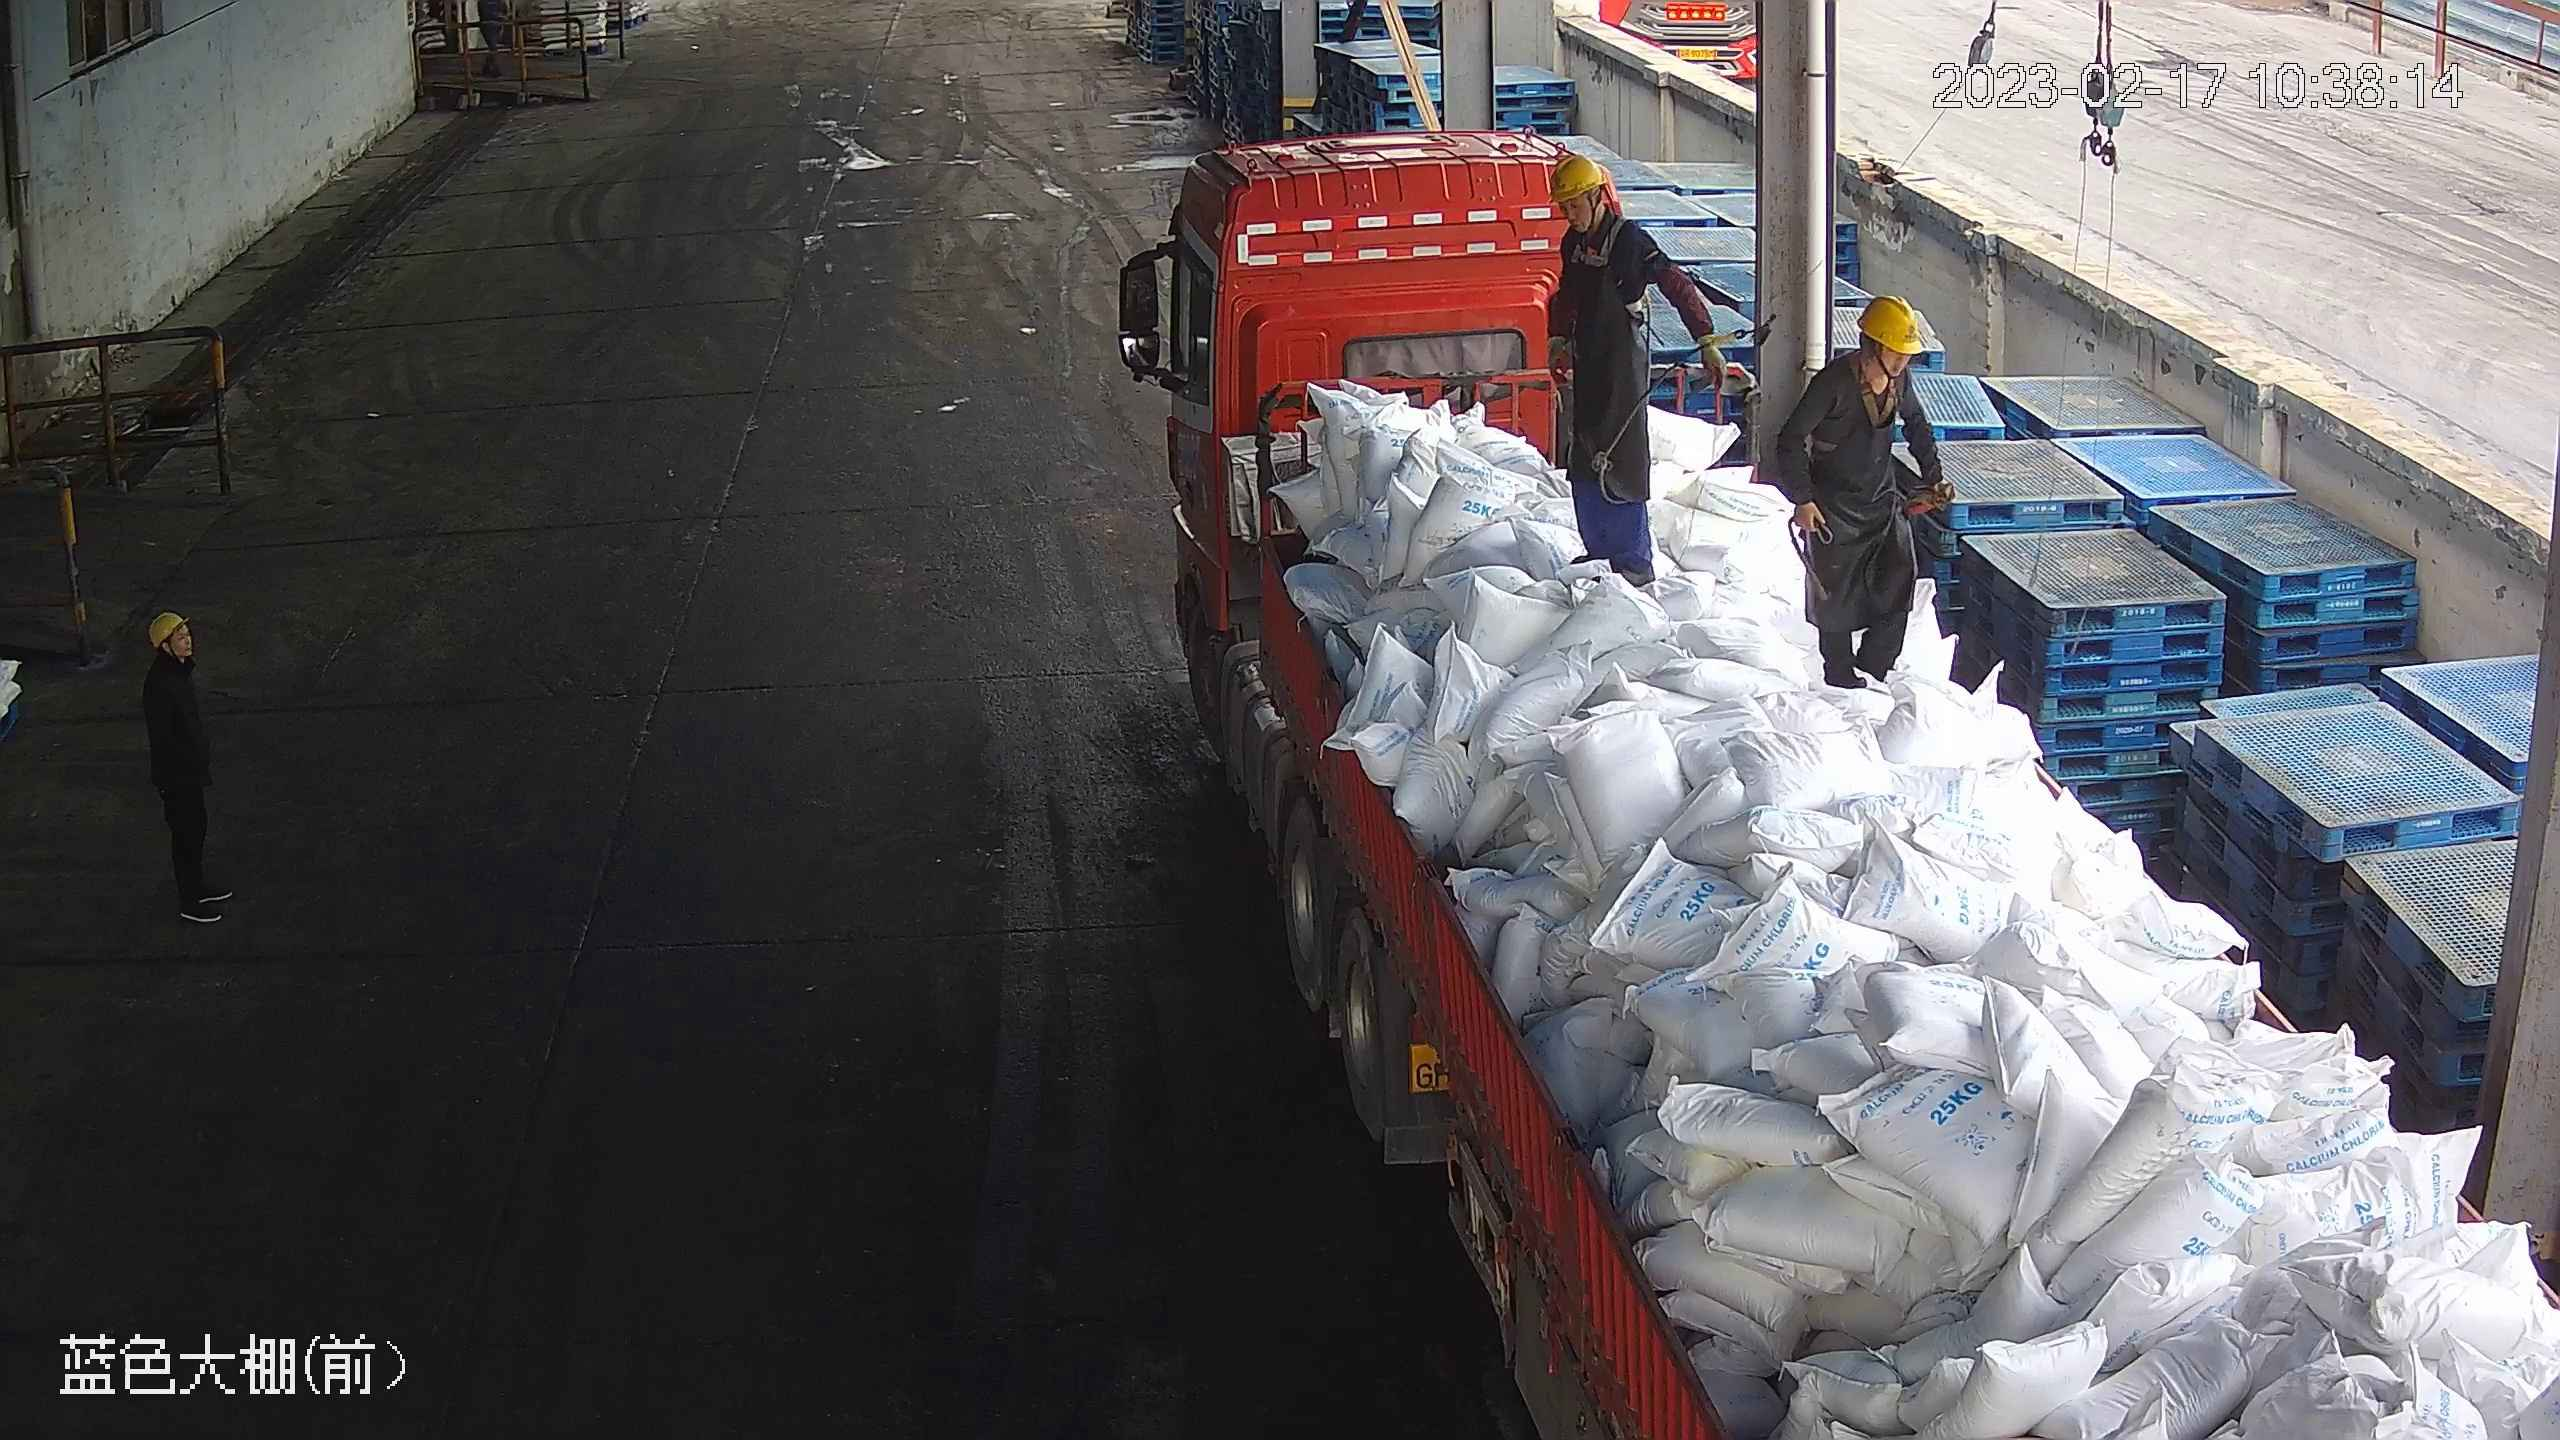belt: (1825, 361, 1930, 459), (1569, 211, 1642, 276)
head: (1793, 293, 1940, 427), (1540, 156, 1657, 298), (147, 606, 201, 722)
helmet: (1857, 292, 1921, 357), (1544, 157, 1612, 206), (149, 606, 186, 656)
people: (1542, 154, 1744, 584), (1776, 288, 1962, 691), (144, 605, 234, 930)
truck: (1117, 120, 2560, 1440)
